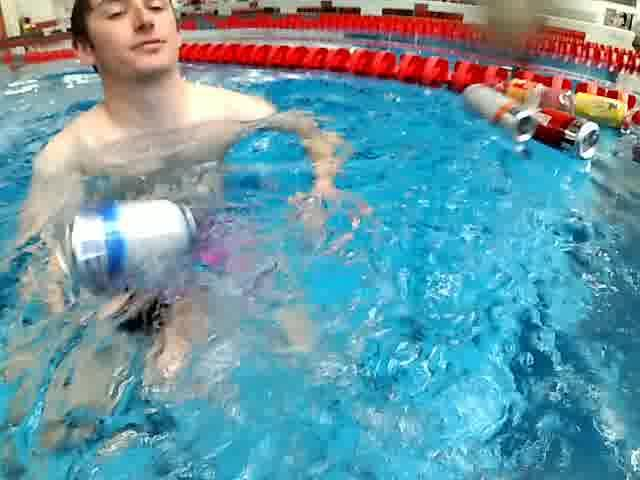Bottle: (483, 74, 574, 113)
Can: (51, 193, 218, 277), (458, 81, 540, 147), (519, 103, 606, 164), (569, 90, 634, 134)
